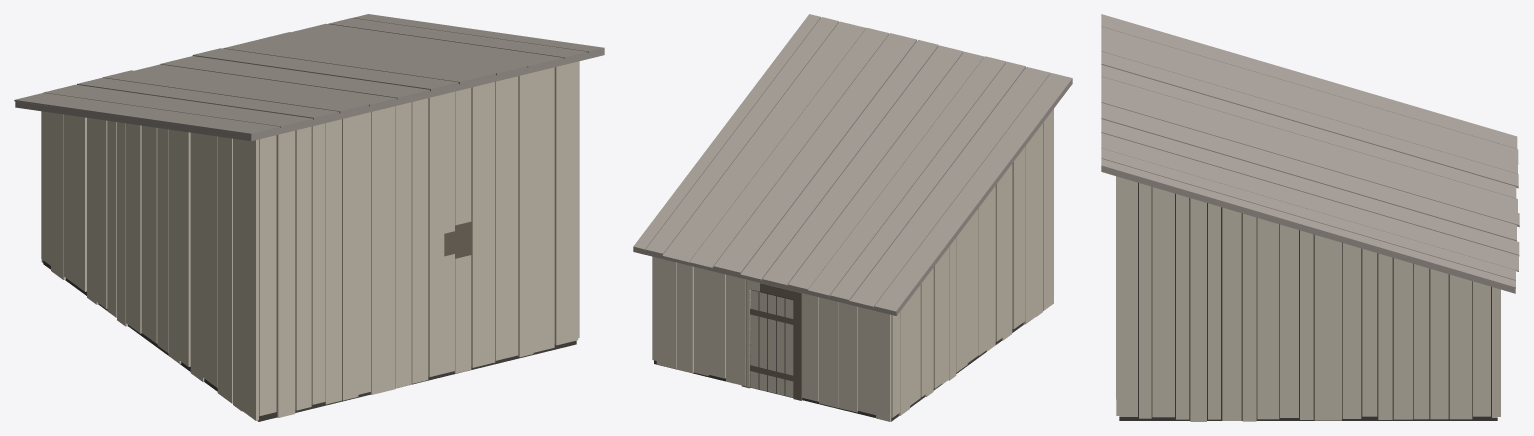
File: recon_1835_north_d2_003__inferred_1835.glb
3 renders of one model, left to right at view 1: azimuth 30°, elevation 25°; view 2: azimuth 150°, elevation 25°; view 3: azimuth 270°, elevation 25°, orthographic. The views are drawn at different scales.
Parts seen in each view (by area): view 1: recon_1835_north_d2_003__inferred_1835; view 2: recon_1835_north_d2_003__inferred_1835; view 3: recon_1835_north_d2_003__inferred_1835.
Boxes of the visible parts, left/top/right/bottom form: recon_1835_north_d2_003__inferred_1835: left=14, top=14, right=604, bottom=421; recon_1835_north_d2_003__inferred_1835: left=633, top=14, right=1072, bottom=421; recon_1835_north_d2_003__inferred_1835: left=1101, top=14, right=1519, bottom=421.
Bounding box in the file's own units: 5.22 × 4.25 × 6.1.
